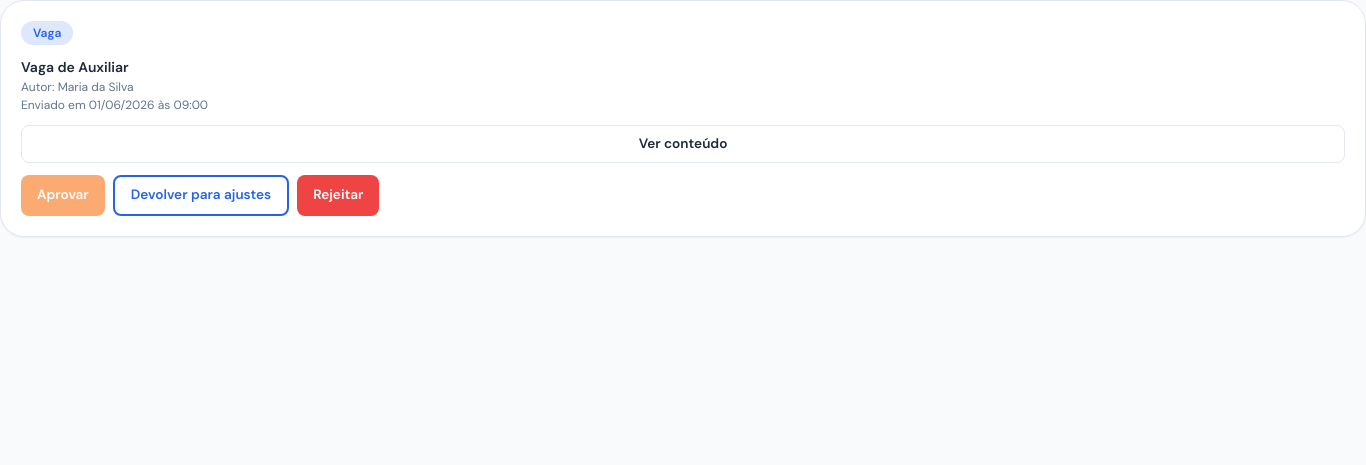
Test: ModerationQueue › erro da Server Action de aprovar: mostra o alerta e mantém o item na fila (conteúdo já aberto)
Click the button "Ver conteúdo" at [683, 144], box [21,125,1345,163]
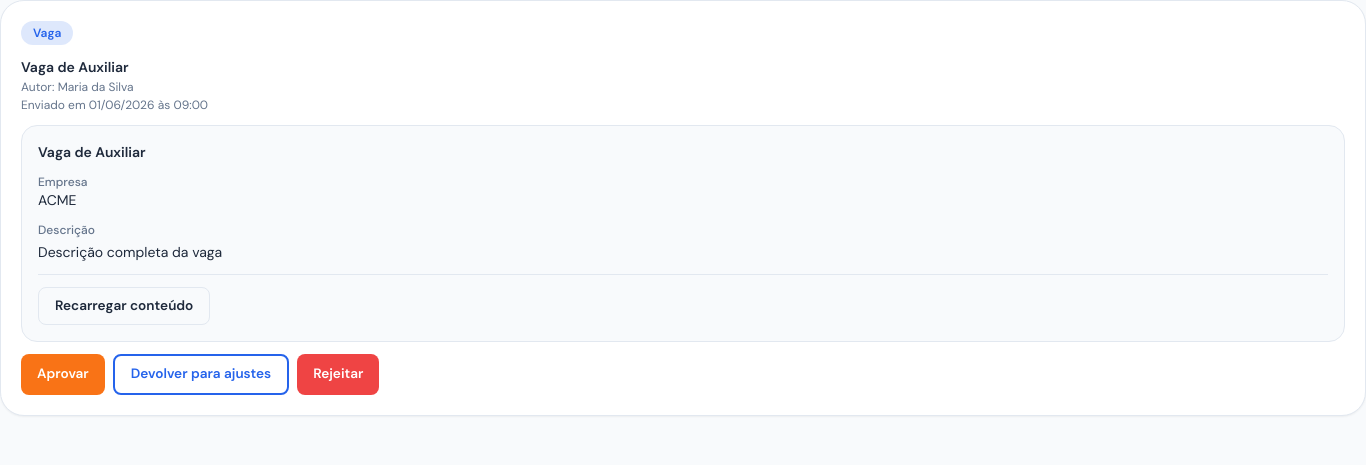
Check: the text "ACME" is shown, box [38,191,76,209]
Click the button "Aprovar" at [63, 375], box [21,354,105,395]
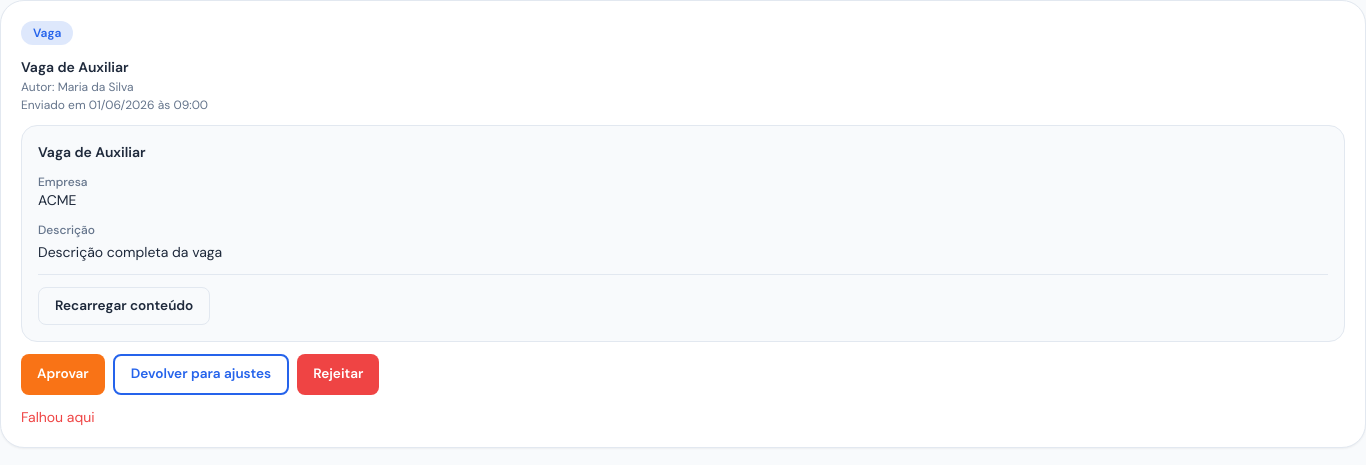
Check: the text "Vaga de Auxiliar" is shown 2 times, box [21,58,129,76]; [38,143,146,161]
Check: the message reads "Falhou aqui", box [21,408,95,426]
